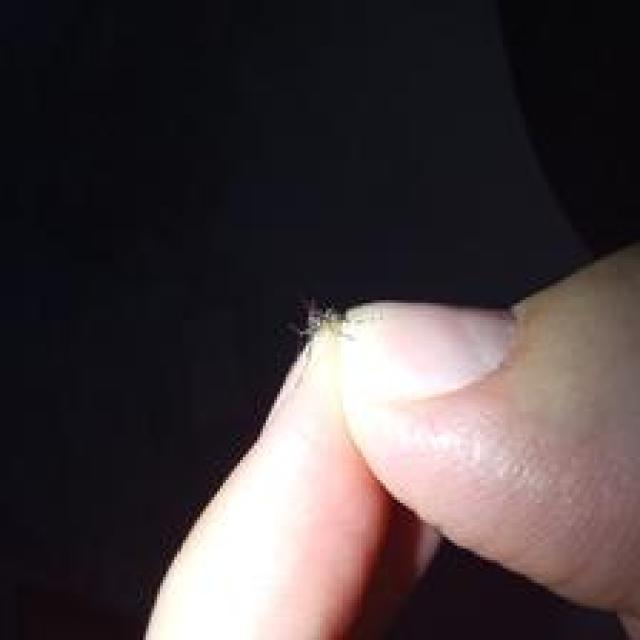Aedes albopictus: (289, 297, 360, 354)
